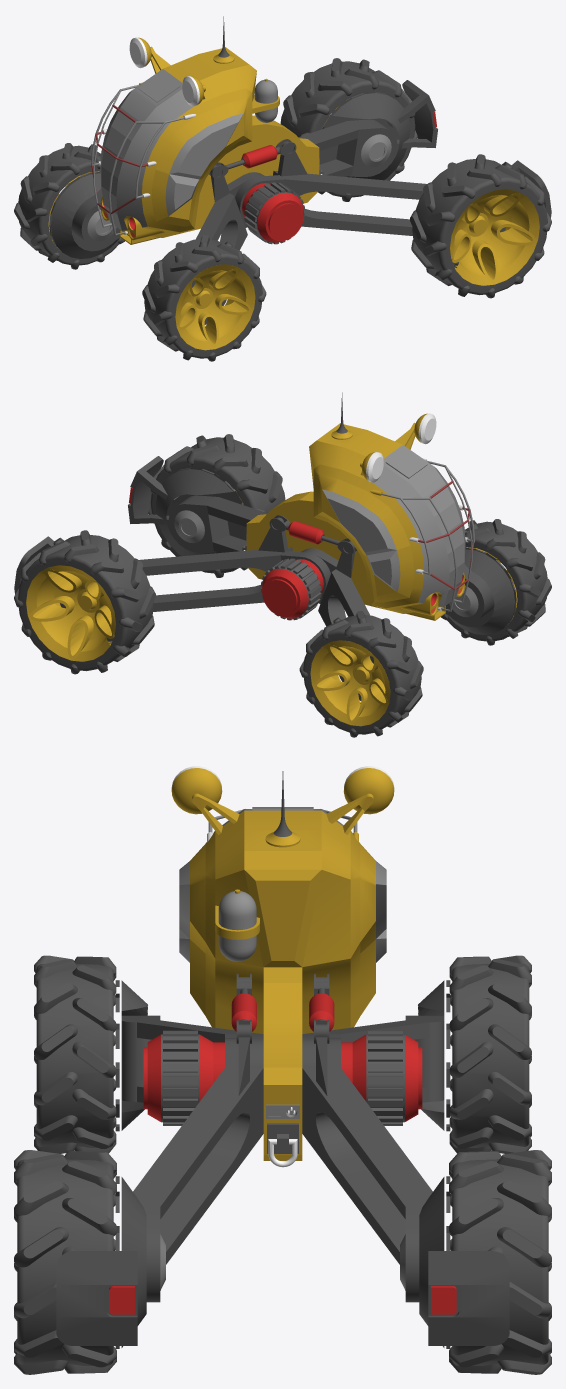
The model's file is toy2.fbx.
3 views of the same model, one above another, from view 1: azimuth 30°, elevation 25°; view 2: azimuth 150°, elevation 25°; view 3: azimuth 270°, elevation 25° (orthographic). The views are drawn at different scales.
Parts seen in each view (by area): view 1: Component#8_001, Group_002, Component#8_003; view 2: Component#8_003, Group_002, Component#8_001; view 3: Component#8_003, Component#8_001, Group_002.
Boxes of the visible parts, box(x1,y1,x2,y2) form: Component#8_001: box(142, 139, 551, 361); Group_002: box(91, 16, 323, 244); Component#8_003: box(14, 58, 437, 269); Component#8_003: box(14, 515, 423, 737); Group_002: box(242, 392, 474, 620); Component#8_001: box(128, 434, 551, 645); Component#8_003: box(302, 955, 551, 1374); Component#8_001: box(14, 955, 263, 1374); Group_002: box(171, 766, 394, 1167).
Bounding box in the file's own units: 161 × 106 × 116.
